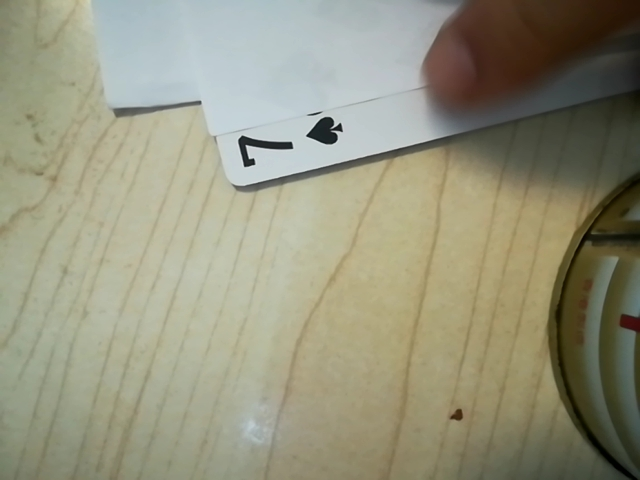ht 7: (224, 106, 371, 181)
